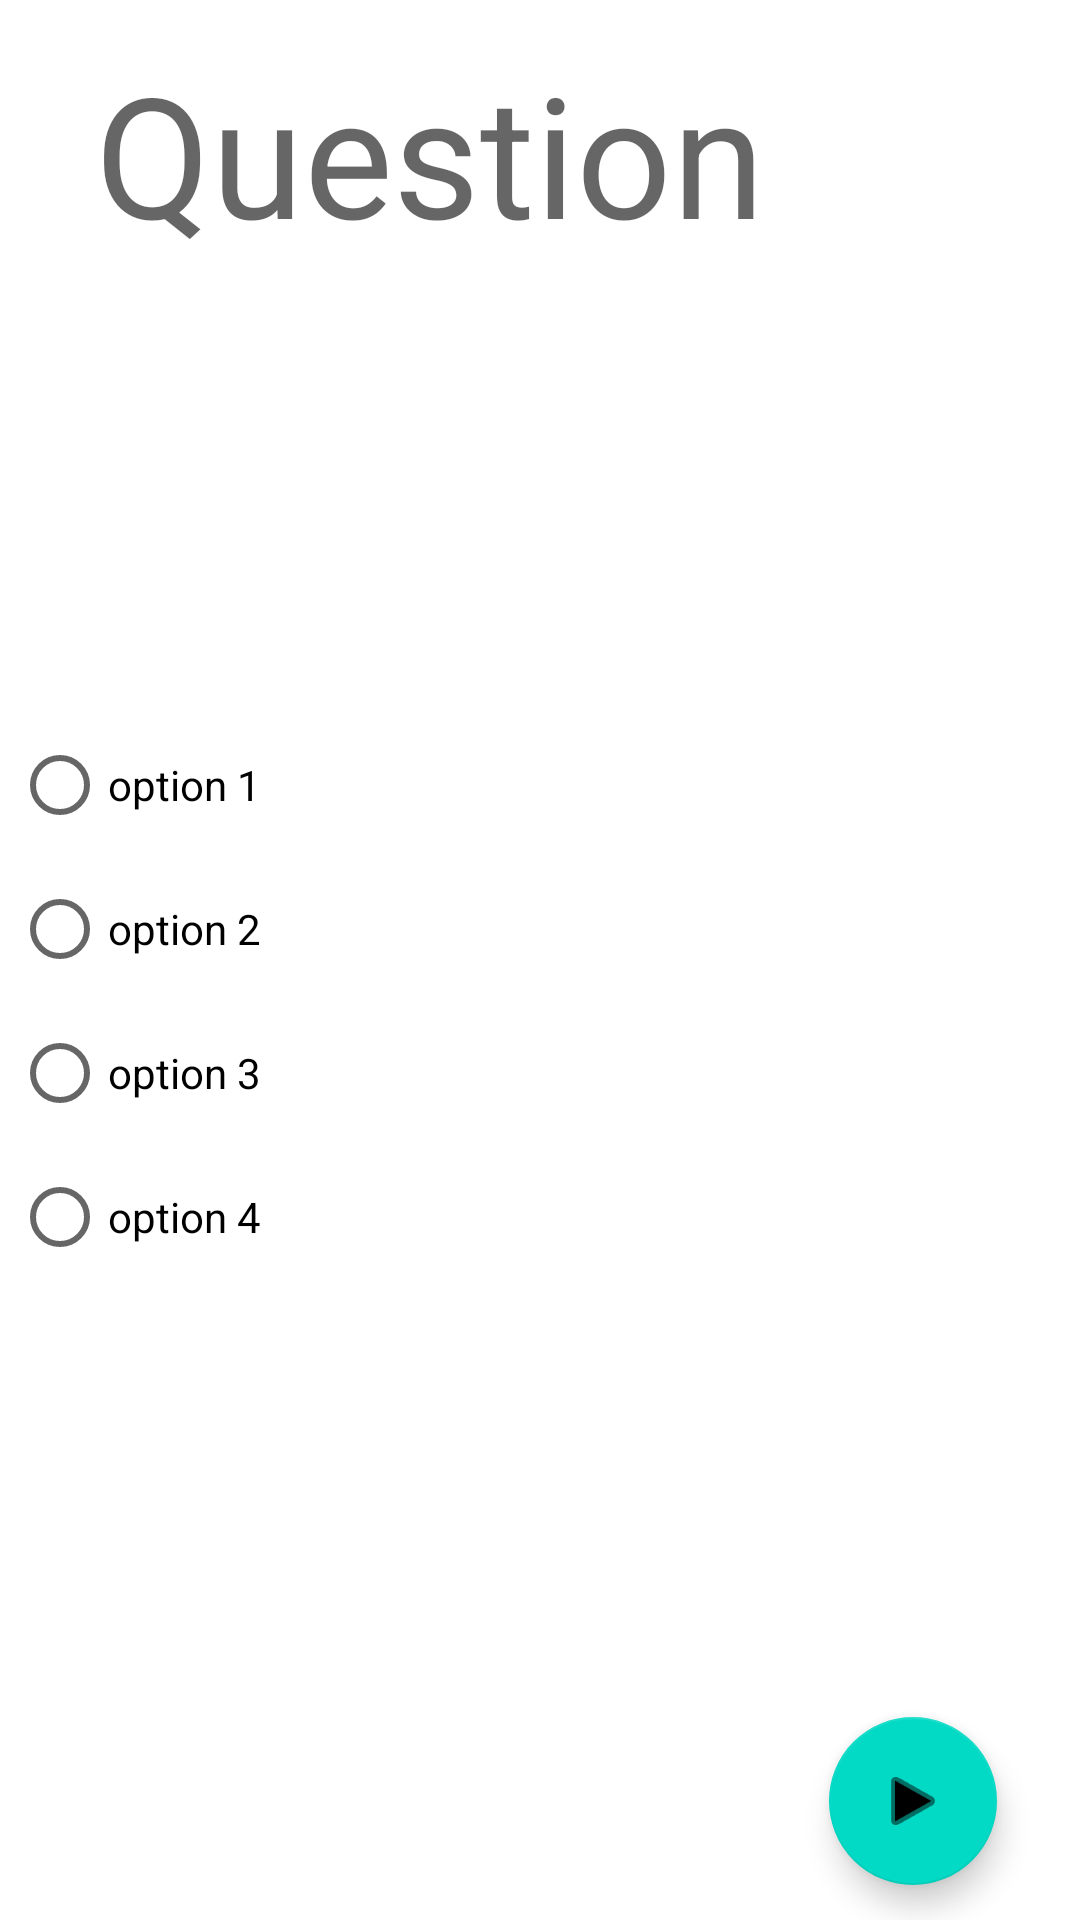

Screen size 1080px×1920px. Icon name, then its box in pixels as (x1, y1, x2, y2):
play: (829, 1717, 997, 1885)
